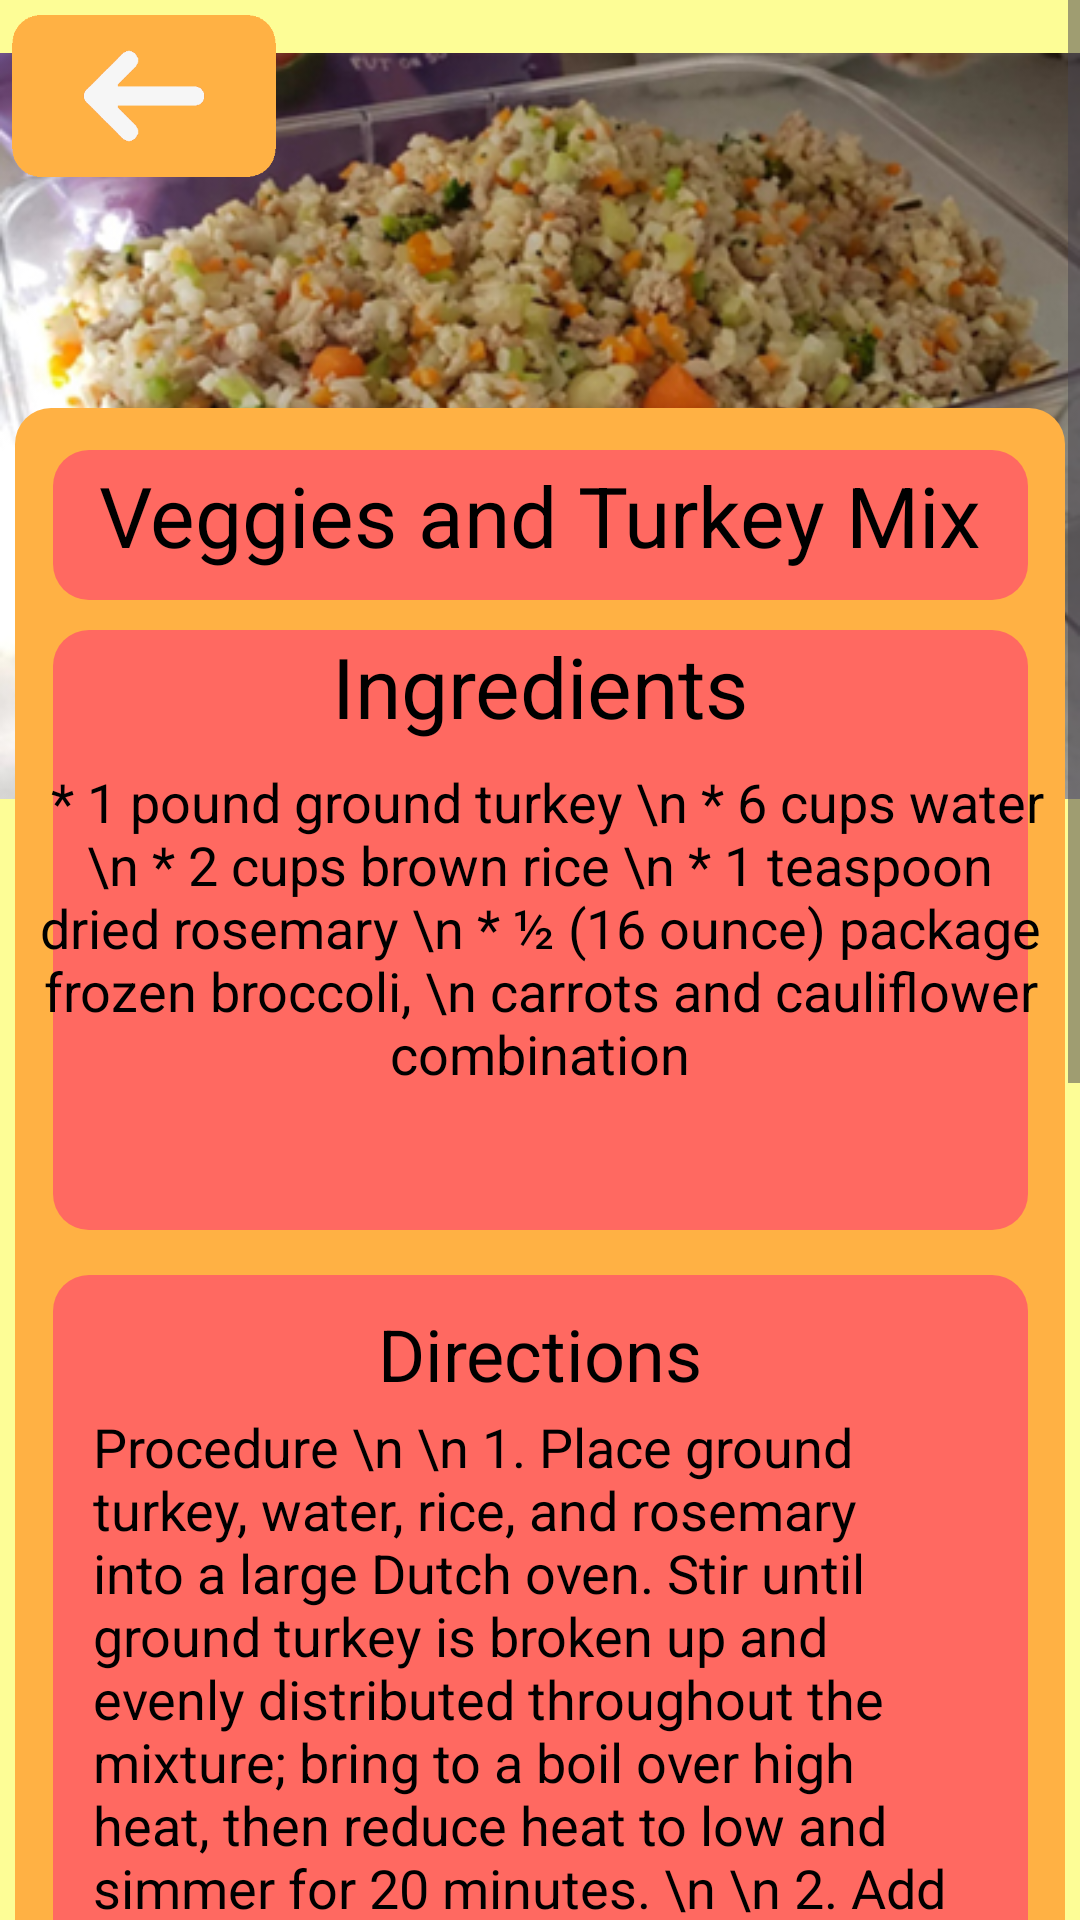

Icon click points for this 1080 x 1920 phone screenshot, format point (x, y):
backred: point (144, 96)
